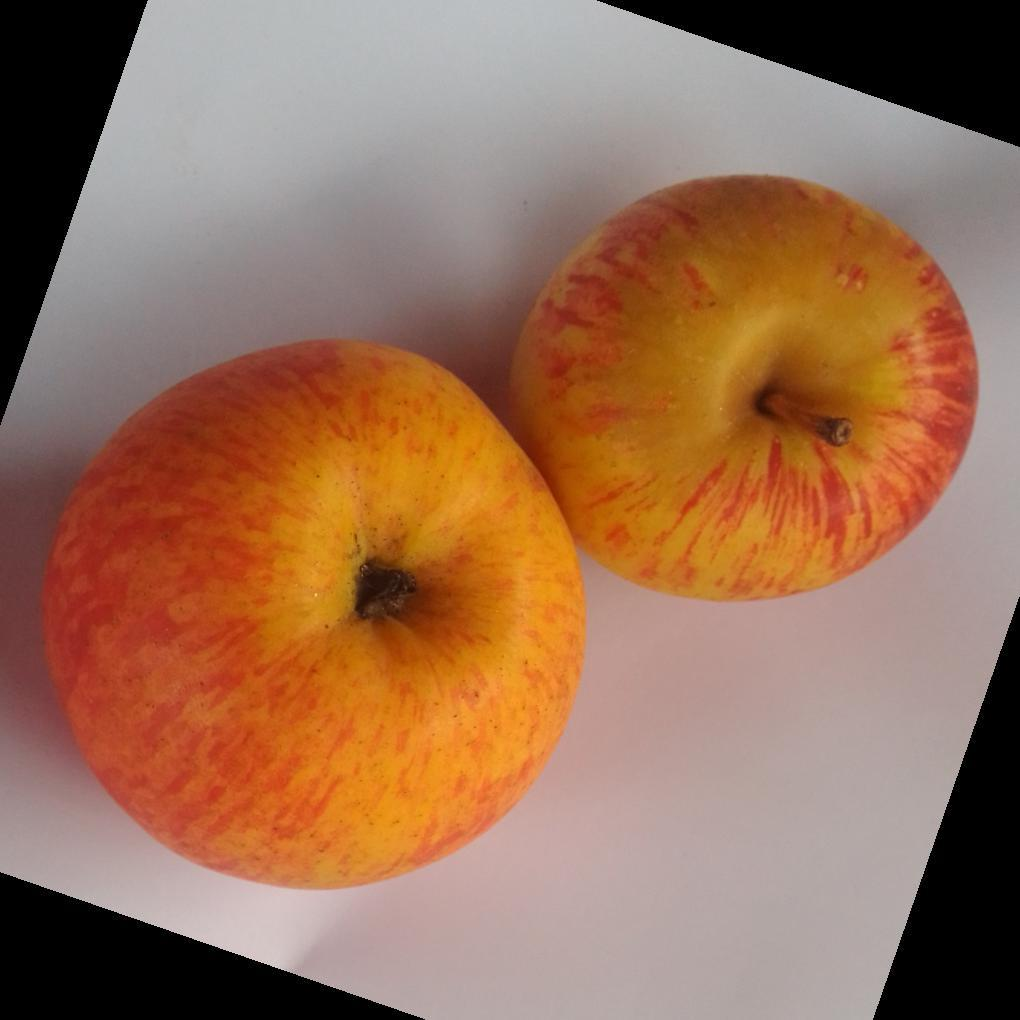FreshGuava: (39, 174, 980, 896)
